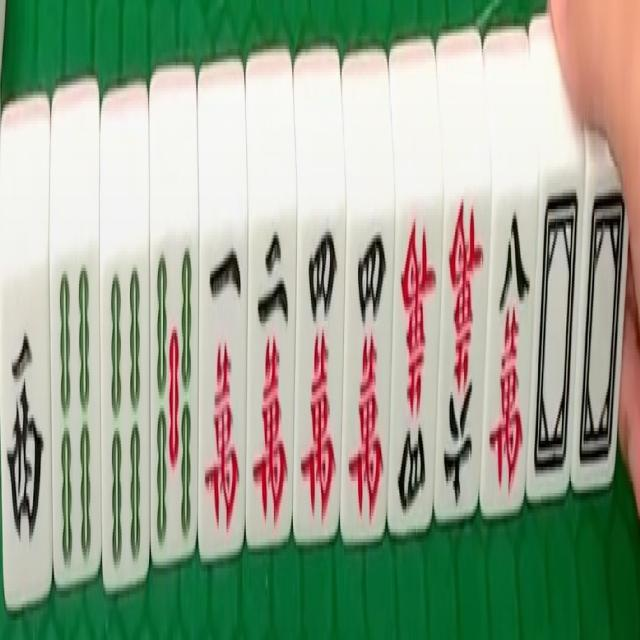bai: (578, 163, 632, 490), (534, 174, 580, 512)
m1: (202, 220, 246, 558)
m2: (253, 221, 296, 541)
m4: (395, 195, 440, 560), (297, 212, 342, 561), (346, 217, 390, 546)
m6: (441, 181, 486, 526)
m8: (487, 185, 532, 518)
s4: (54, 240, 100, 568), (103, 254, 145, 581)
s5: (151, 228, 196, 566)
west: (0, 272, 48, 569)
